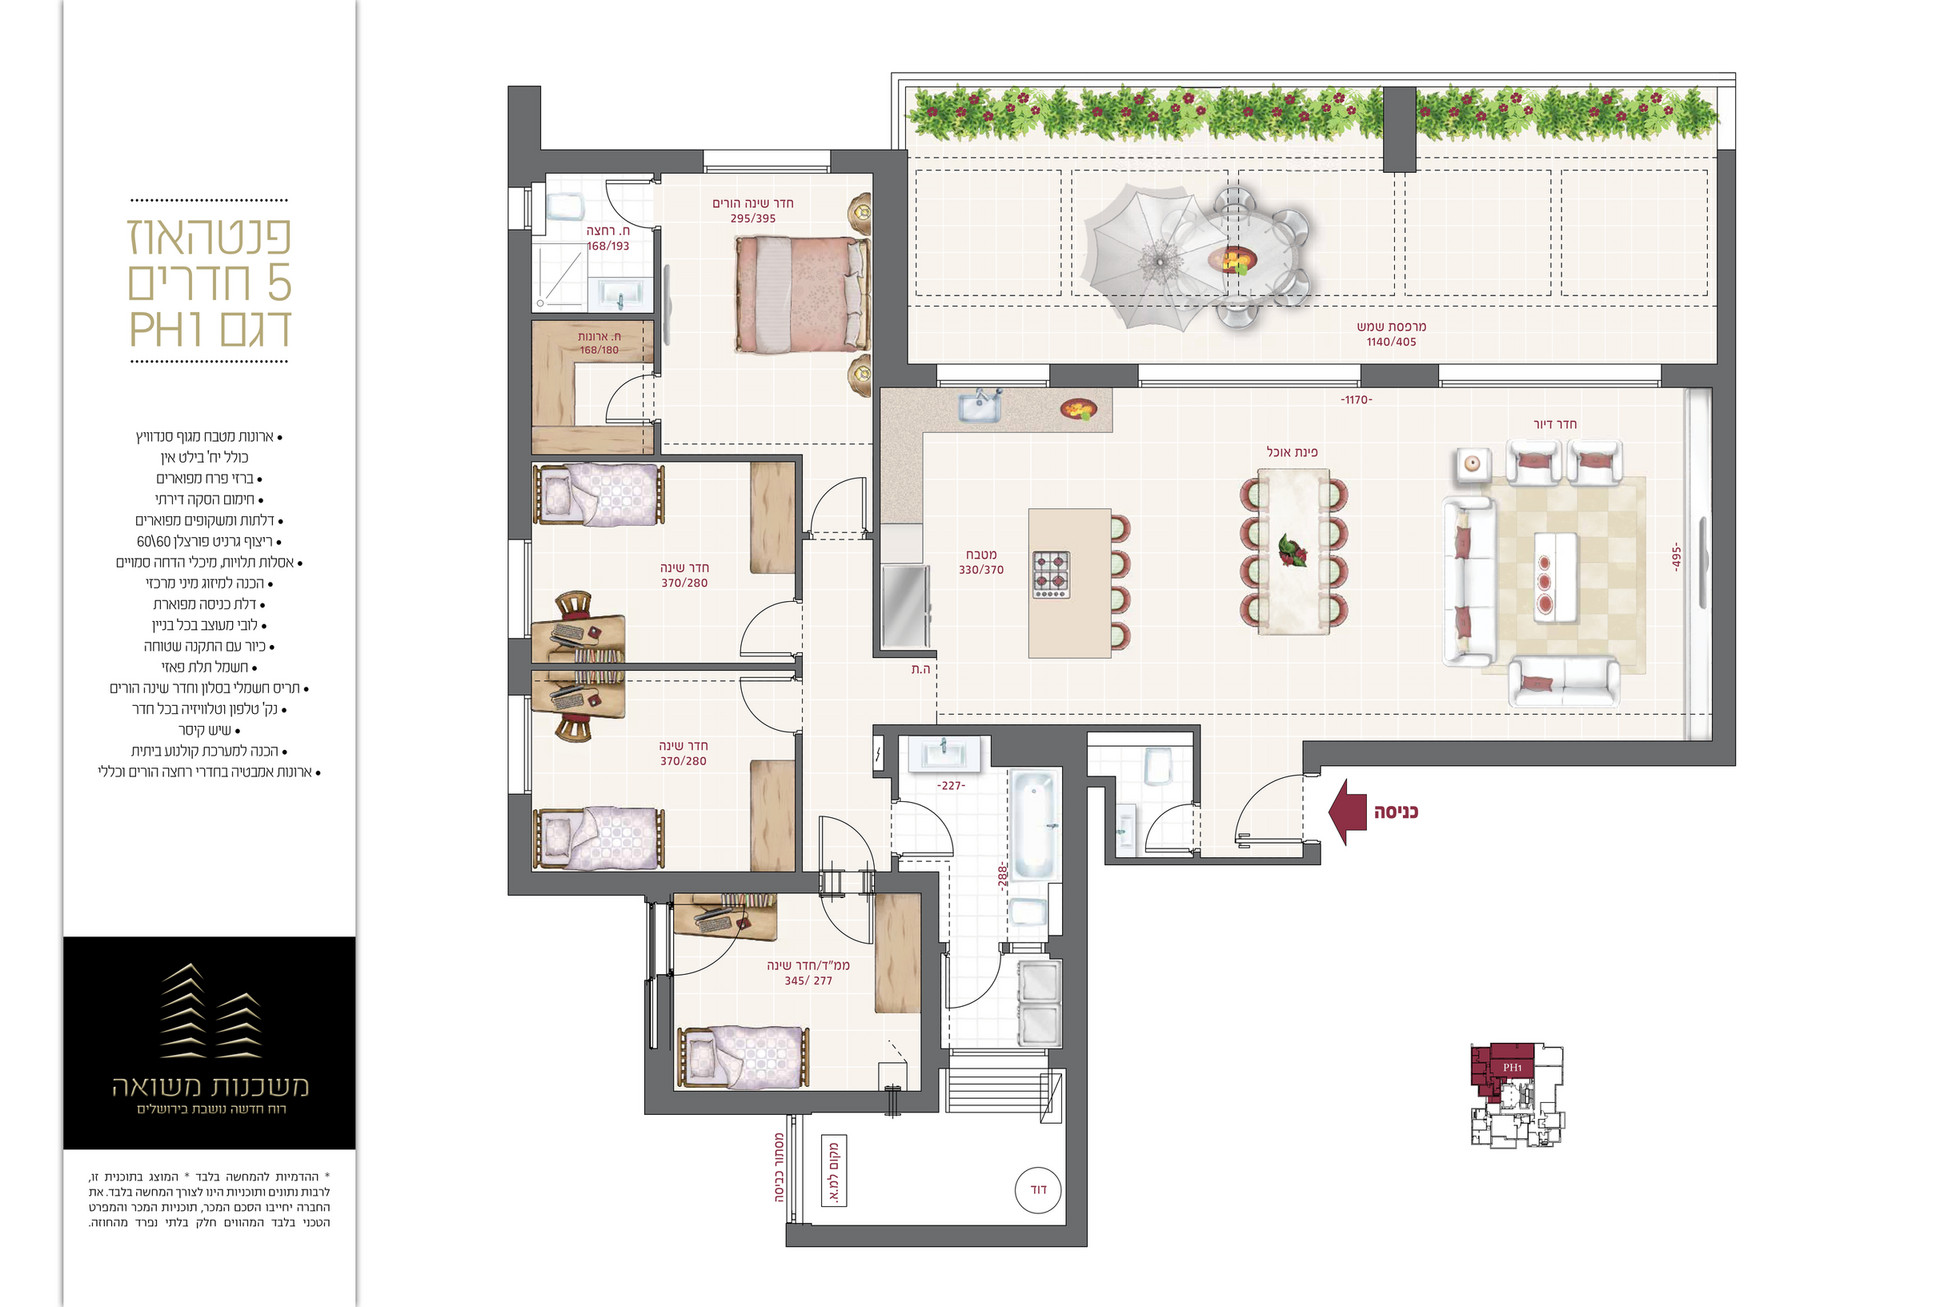door: (1224, 767, 1291, 852), (904, 794, 968, 858), (808, 804, 874, 858), (736, 672, 793, 734), (945, 958, 1003, 1017), (731, 602, 789, 659), (809, 474, 871, 516), (598, 174, 650, 219), (598, 368, 642, 422), (818, 906, 876, 944), (1143, 808, 1183, 858)
wall: (1065, 724, 1088, 1222), (1302, 741, 1735, 767), (1711, 388, 1738, 763), (787, 1222, 1092, 1249), (874, 147, 906, 389), (506, 228, 531, 540), (645, 1093, 882, 1112), (1719, 149, 1735, 389), (1382, 90, 1417, 171)
window: (1442, 363, 1658, 389), (1143, 365, 1346, 388), (938, 365, 1050, 387), (507, 697, 532, 791), (507, 541, 531, 636), (704, 160, 833, 174)
